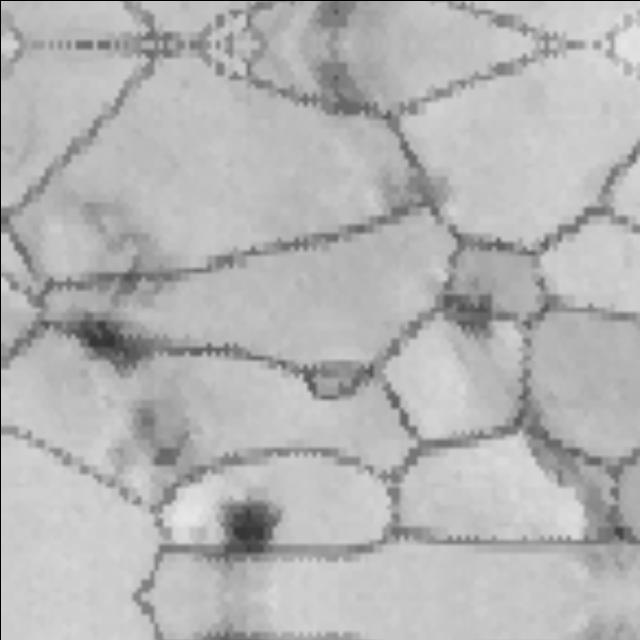good_void: (88, 200, 177, 307), (100, 403, 191, 481), (305, 56, 381, 126), (378, 157, 460, 220), (77, 316, 151, 378), (523, 424, 588, 492), (428, 281, 498, 343), (216, 497, 281, 560), (306, 0, 381, 33), (604, 517, 635, 548)
